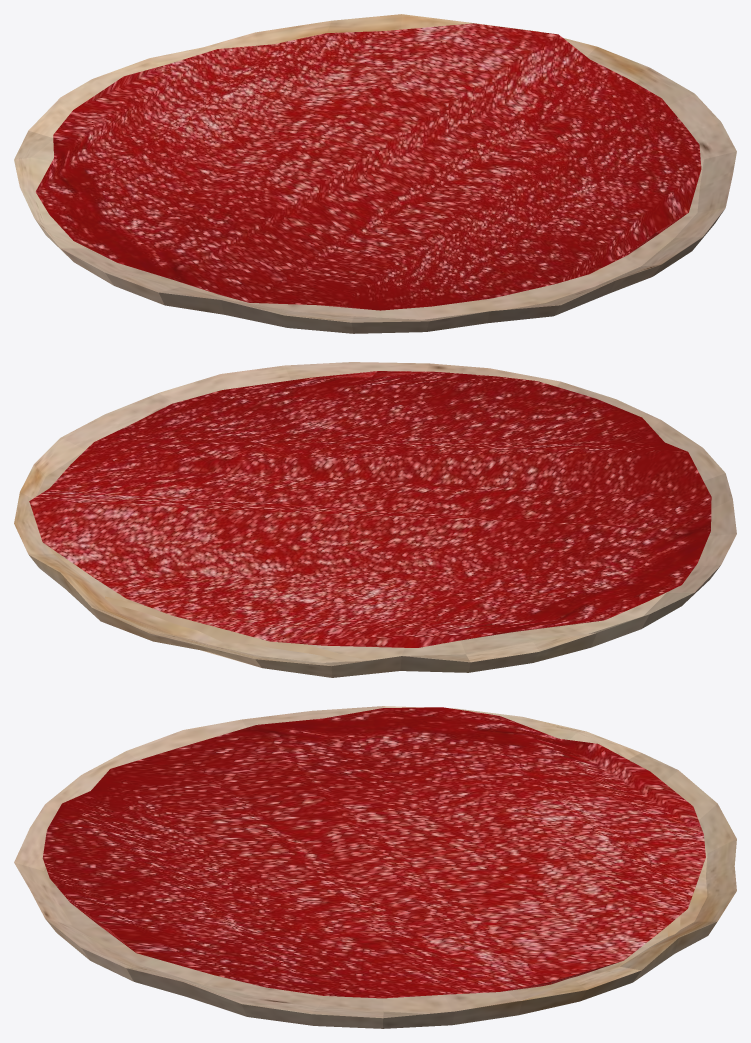
The model's file is pizzabodem_rauw_saus.glb.
3 renders of one model, top to bottom at view 1: azimuth 30°, elevation 25°; view 2: azimuth 150°, elevation 25°; view 3: azimuth 270°, elevation 25°, orthographic.
Visible parts, largest first — view 1: Cylinder.002, Sphere; view 2: Cylinder.002, Sphere; view 3: Cylinder.002, Sphere.
Boxes of the visible parts, x1,y1,x2,y2 form: Cylinder.002: (35,23,701,310); Sphere: (14,14,736,333); Cylinder.002: (29,371,711,647); Sphere: (14,362,736,677); Cylinder.002: (42,707,705,998); Sphere: (14,706,736,1028).
Size of the model in its own units: 3.09 by 0.1305 by 3.03.
2 materials, 2 textured.
